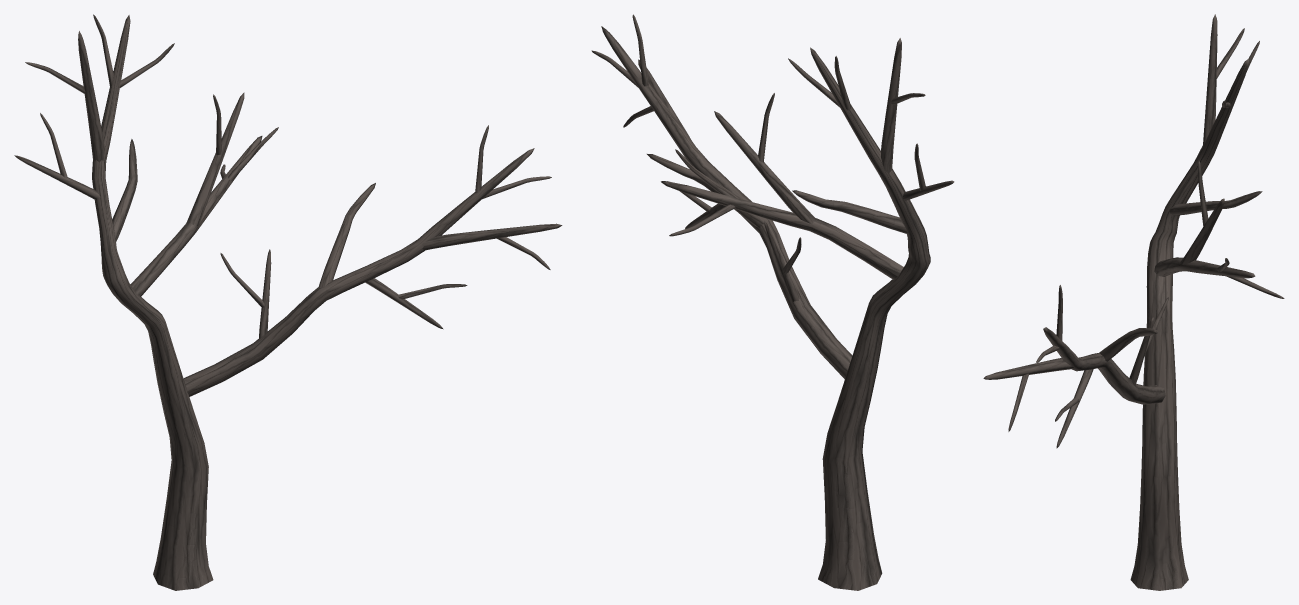
File: dead_tree_01.glb
3 renders of one model, left to right at view 1: azimuth 30°, elevation 25°; view 2: azimuth 150°, elevation 25°; view 3: azimuth 270°, elevation 25°, orthographic. The views are drawn at different scales.
Visible parts, largest first — view 1: DeadTree_6; view 2: DeadTree_6; view 3: DeadTree_6.
Boxes of the visible parts, x1,y1,x2,y2 form: DeadTree_6: (14, 14, 562, 590); DeadTree_6: (591, 14, 954, 590); DeadTree_6: (983, 14, 1284, 590).
Size of the model in its own units: 5.41 by 6.41 by 3.3.
Materials: 1 (1 with a texture image).
